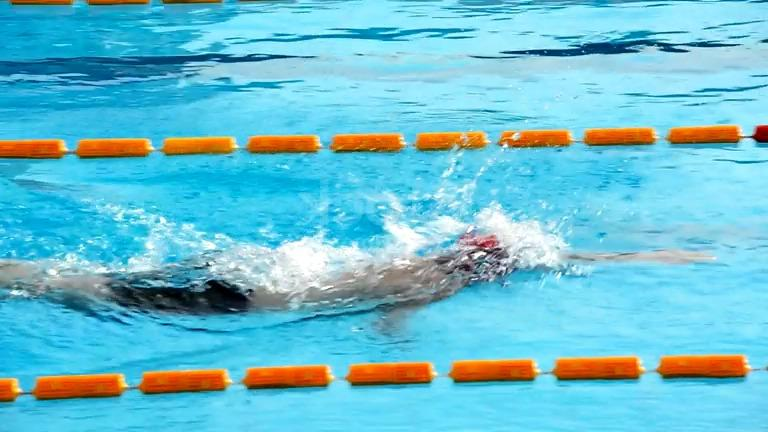Swimming: (4, 216, 720, 333)
